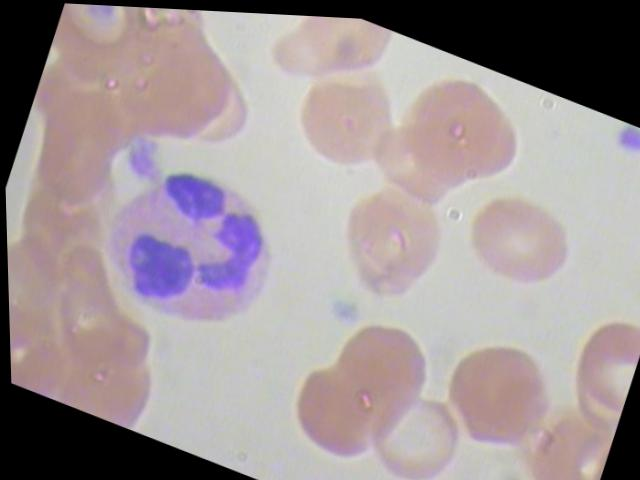Platelets: (116, 130, 172, 189), (605, 113, 639, 167)
Red Blood Cells: (383, 51, 542, 201), (316, 161, 463, 320), (423, 316, 569, 463), (449, 172, 587, 302), (280, 49, 414, 182), (266, 358, 394, 478), (321, 306, 449, 426), (257, 10, 398, 109), (353, 371, 480, 479)
White Blood Cells: (80, 142, 300, 357)
